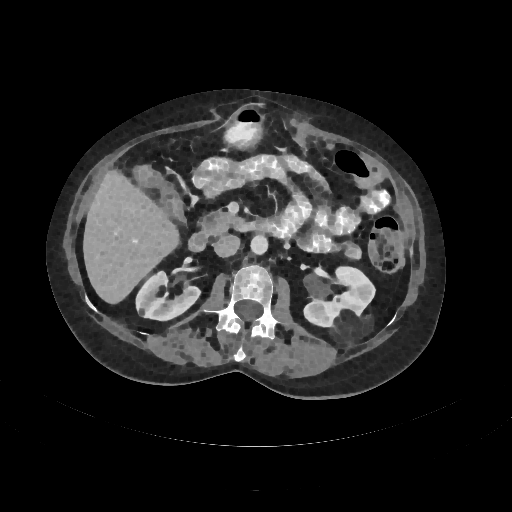Lesion: (330, 309, 378, 349)
